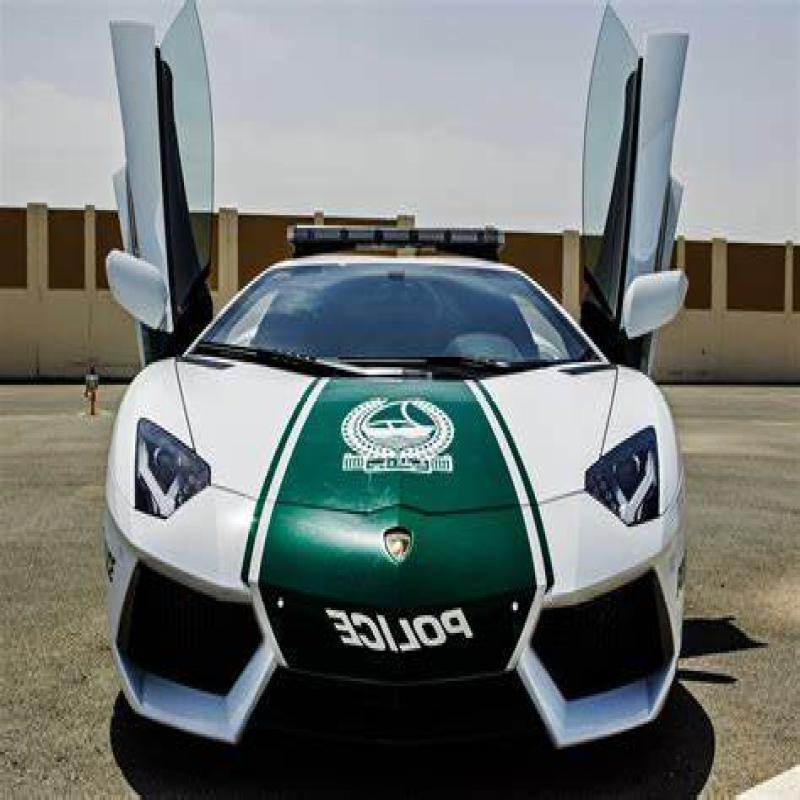AmbulanceSiren: (284, 201, 508, 260)
